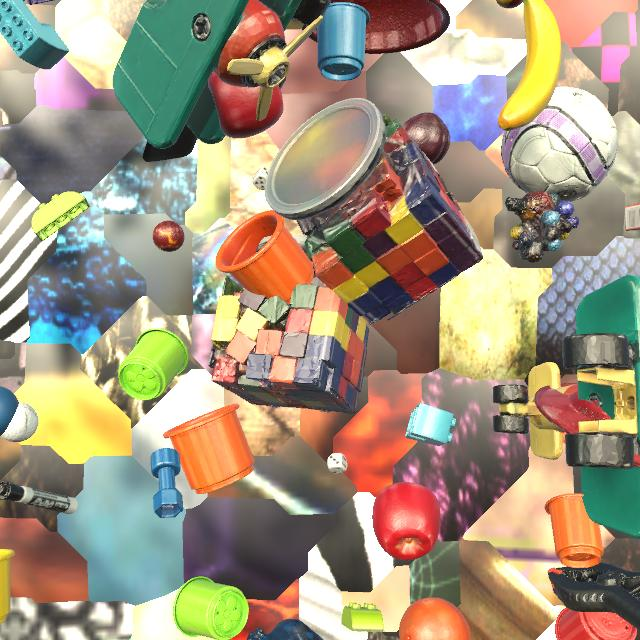ycb_009_gelatin_box: (625, 203, 640, 231)
ycb_011_banana: (498, 0, 561, 131)
ycb_013_apple: (372, 482, 441, 560), (208, 71, 284, 139)
ycb_017_orange: (399, 597, 471, 640)
ycb_018_plum: (402, 112, 451, 165)
